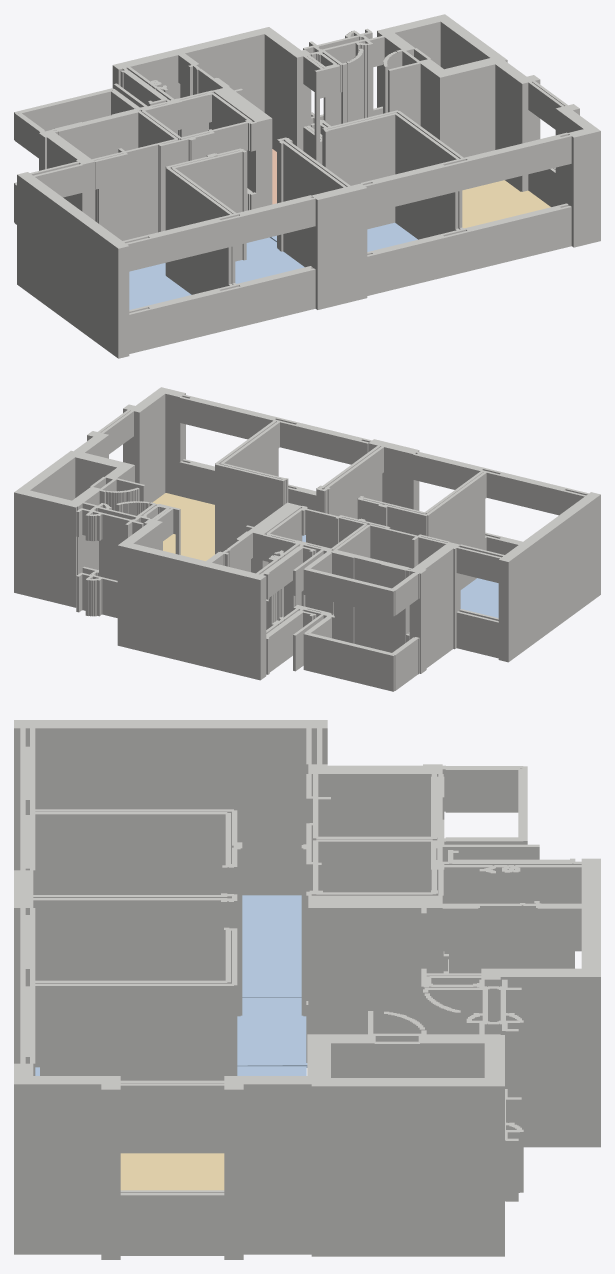
3 renders of one model, top to bottom at view 1: azimuth 30°, elevation 25°; view 2: azimuth 150°, elevation 25°; view 3: azimuth 270°, elevation 25°, orthographic. The views are drawn at different scales.
Visible parts, largest first — view 1: walls, room:living:4, room:bedroom:9, room:bedroom:3, room:bedroom:6; view 2: walls, room:living:4, room:bedroom:3; view 3: walls, room:bedroom:3, room:bedroom:9, room:living:4, room:bedroom:6.
Boxes of the visible parts, left/top/right/bottom form: walls: left=14, top=14, right=600, bottom=358; room:living:4: left=462, top=180, right=550, bottom=228; room:bedroom:9: left=235, top=237, right=304, bottom=283; room:bedroom:3: left=129, top=263, right=191, bottom=309; room:bedroom:6: left=270, top=222, right=417, bottom=251; walls: left=14, top=387, right=600, bottom=691; room:living:4: left=152, top=493, right=214, bottom=561; room:bedroom:3: left=460, top=578, right=498, bottom=617; walls: left=14, top=720, right=600, bottom=1259; room:bedroom:3: left=242, top=895, right=301, bottom=997; room:bedroom:9: left=237, top=998, right=307, bottom=1067; room:living:4: left=120, top=1153, right=224, bottom=1190; room:bedroom:6: left=35, top=1066, right=306, bottom=1075.
Bounding box in the file's own units: 13.04 × 2.8 × 8.75.
